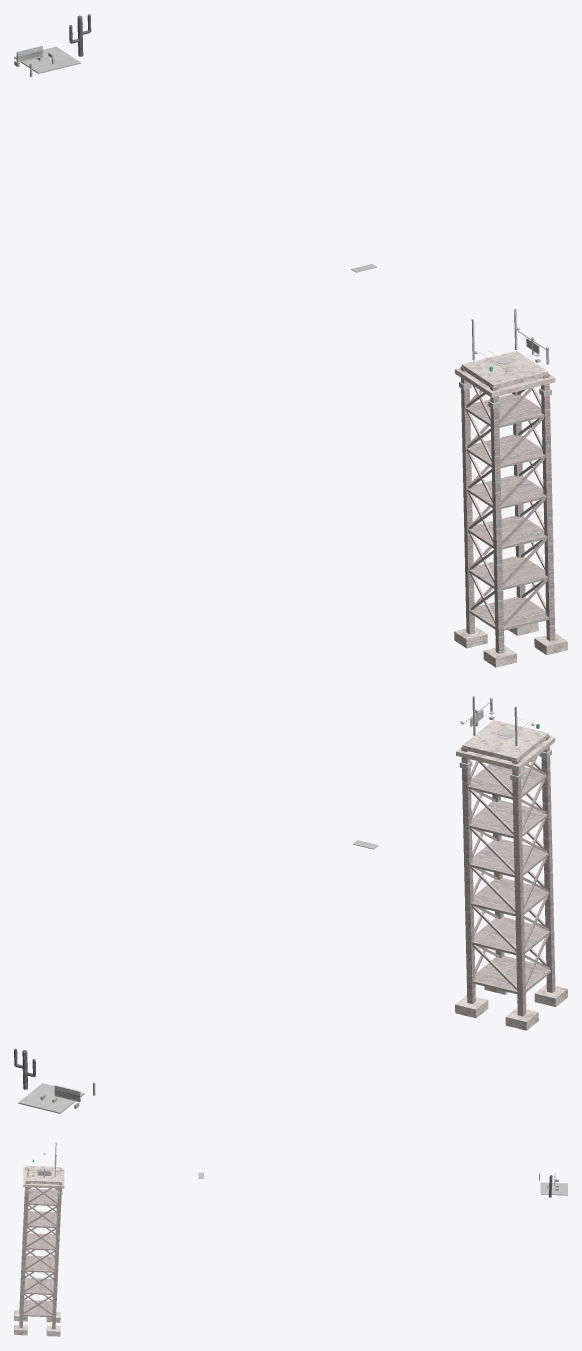
Rendered from HighwireHorizon_04.obj.
3 views of the same model, one above another, from view 1: azimuth 30°, elevation 25°; view 2: azimuth 150°, elevation 25°; view 3: azimuth 270°, elevation 25° (orthographic). The views are drawn at different scales.
Parts seen in each view (by area): view 1: Box0052, Box0111, Box0022, Box0201, Box0131, Box0171, Box0151, Box0141, Box0161, Box0181, Box0191, Rug1; view 2: Box0022, Box0082, Box0201, Box0052, Box0161, Box0171, Box0151, Box0141, Box0131, Box0181, Rug1, Box0191 (+3 smaller); view 3: Box0082, Box0111, Box0201, Box0151, Box0171, Box0161, Box0131, Box0141, Box0181, Rug1, Box0191.
Boxes of the visible parts, x1=… form: Box0052: x1=490, y1=385, x2=504, y2=653; Box0111: x1=541, y1=374, x2=555, y2=641; Box0022: x1=460, y1=366, x2=475, y2=634; Box0201: x1=461, y1=351, x2=548, y2=388; Box0131: x1=469, y1=596, x2=548, y2=630; Box0171: x1=466, y1=434, x2=545, y2=468; Box0151: x1=468, y1=515, x2=547, y2=549; Box0141: x1=469, y1=556, x2=547, y2=589; Box0161: x1=467, y1=475, x2=546, y2=508; Box0181: x1=465, y1=394, x2=544, y2=427; Box0191: x1=455, y1=368, x2=555, y2=397; Rug1: x1=14, y1=46, x2=80, y2=73; Box0022: x1=512, y1=758, x2=526, y2=1016; Box0082: x1=461, y1=747, x2=475, y2=1004; Box0201: x1=462, y1=720, x2=548, y2=761; Box0052: x1=541, y1=735, x2=555, y2=992; Box0161: x1=470, y1=839, x2=548, y2=877; Box0171: x1=469, y1=800, x2=547, y2=838; Box0151: x1=470, y1=878, x2=549, y2=915; Box0141: x1=471, y1=917, x2=550, y2=954; Box0131: x1=472, y1=956, x2=551, y2=993; Box0181: x1=468, y1=764, x2=546, y2=799; Rug1: x1=18, y1=1083, x2=84, y2=1113; Box0191: x1=456, y1=736, x2=555, y2=770; Box0082: x1=52, y1=1182, x2=61, y2=1329; Box0111: x1=19, y1=1181, x2=29, y2=1327; Box0201: x1=26, y1=1165, x2=61, y2=1184; Box0151: x1=25, y1=1255, x2=54, y2=1272; Box0171: x1=27, y1=1211, x2=56, y2=1228; Box0161: x1=26, y1=1233, x2=55, y2=1250; Box0131: x1=23, y1=1300, x2=52, y2=1317; Box0141: x1=24, y1=1277, x2=53, y2=1294; Box0181: x1=28, y1=1188, x2=57, y2=1205; Rug1: x1=540, y1=1182, x2=567, y2=1195; Box0191: x1=23, y1=1167, x2=64, y2=1188.
Size of the model in its own units: 18.03 by 72.13 by 203.
Materials: 14 (13 with a texture image).
